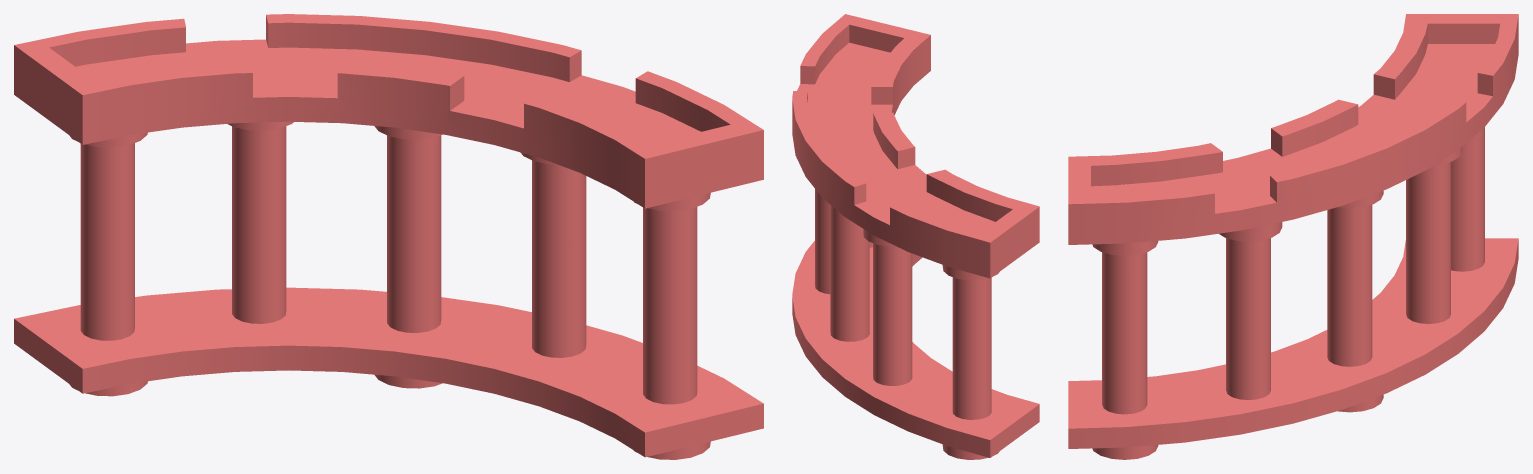
3 renders of one model, left to right at view 1: azimuth 30°, elevation 25°; view 2: azimuth 150°, elevation 25°; view 3: azimuth 270°, elevation 25°, orthographic. The views are drawn at different scales.
Parts seen in each view (by area): view 1: LDrawPart; view 2: LDrawPart; view 3: LDrawPart.
Boxes of the visible parts, x1=… form: LDrawPart: x1=14, y1=14, x2=763, y2=459; LDrawPart: x1=792, y1=14, x2=1039, y2=459; LDrawPart: x1=1068, y1=14, x2=1518, y2=459.
Size of the model in its own units: 0.56 by 0.364 by 0.56.
